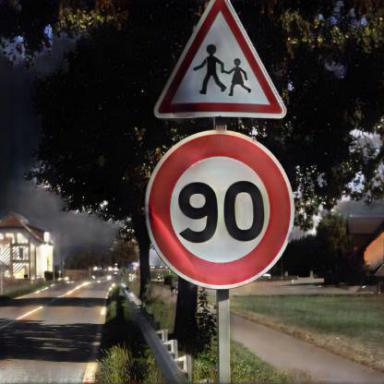Speed_limit_90: (144, 135, 290, 289)
